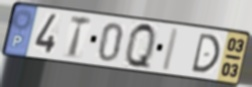0: (97, 21, 126, 63)
4: (33, 13, 59, 56)
D: (189, 32, 222, 74)
I: (159, 26, 182, 73)
Q: (124, 21, 157, 73)
T: (68, 14, 94, 60)
